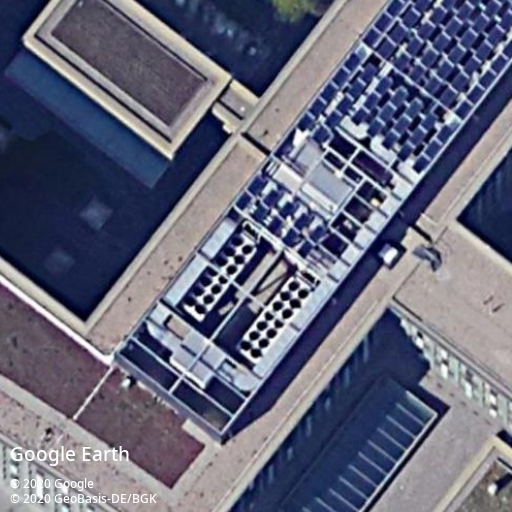Chiller: (180, 230, 258, 323), (235, 276, 313, 364)
